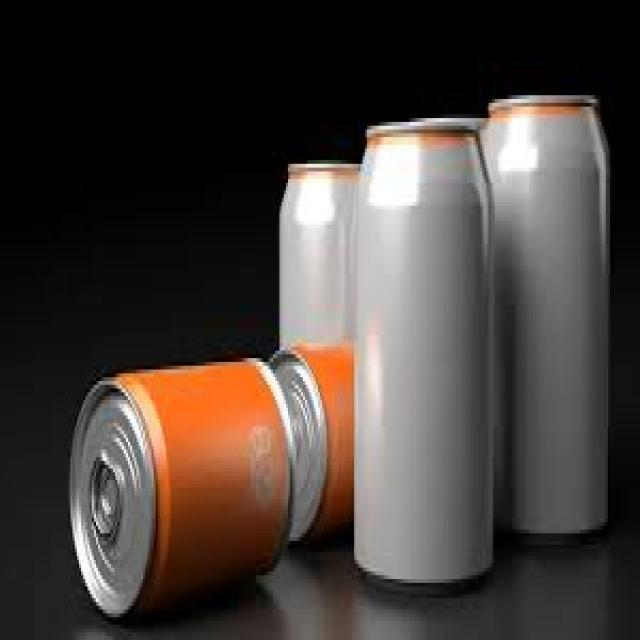Cans: (346, 103, 499, 594), (480, 88, 619, 552), (62, 350, 294, 625)
